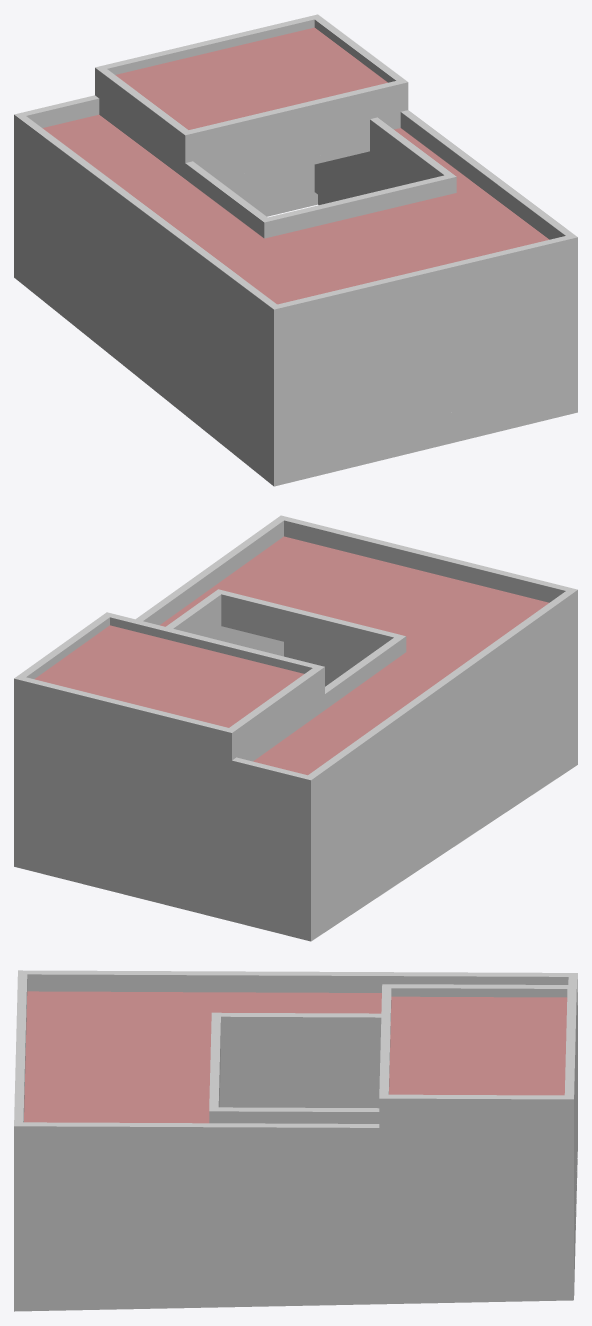
The model's file is LOD_Block_4_73.glb.
The picture shows the model from 3 angles, top to bottom: view 1: azimuth 30°, elevation 25°; view 2: azimuth 150°, elevation 25°; view 3: azimuth 270°, elevation 25°; orthographic projection. The views are drawn at different scales.
Parts seen in each view (by area): view 1: mesh_CityEngineMaterial_1132; view 2: mesh_CityEngineMaterial_1132; view 3: mesh_CityEngineMaterial_1132.
Part boxes in pixels (left/top/right/bottom): mesh_CityEngineMaterial_1132: left=14, top=14, right=577, bottom=486; mesh_CityEngineMaterial_1132: left=14, top=515, right=577, bottom=941; mesh_CityEngineMaterial_1132: left=14, top=970, right=577, bottom=1311.
Bounding box in the file's own units: 19.99 × 12.74 × 30.08.
